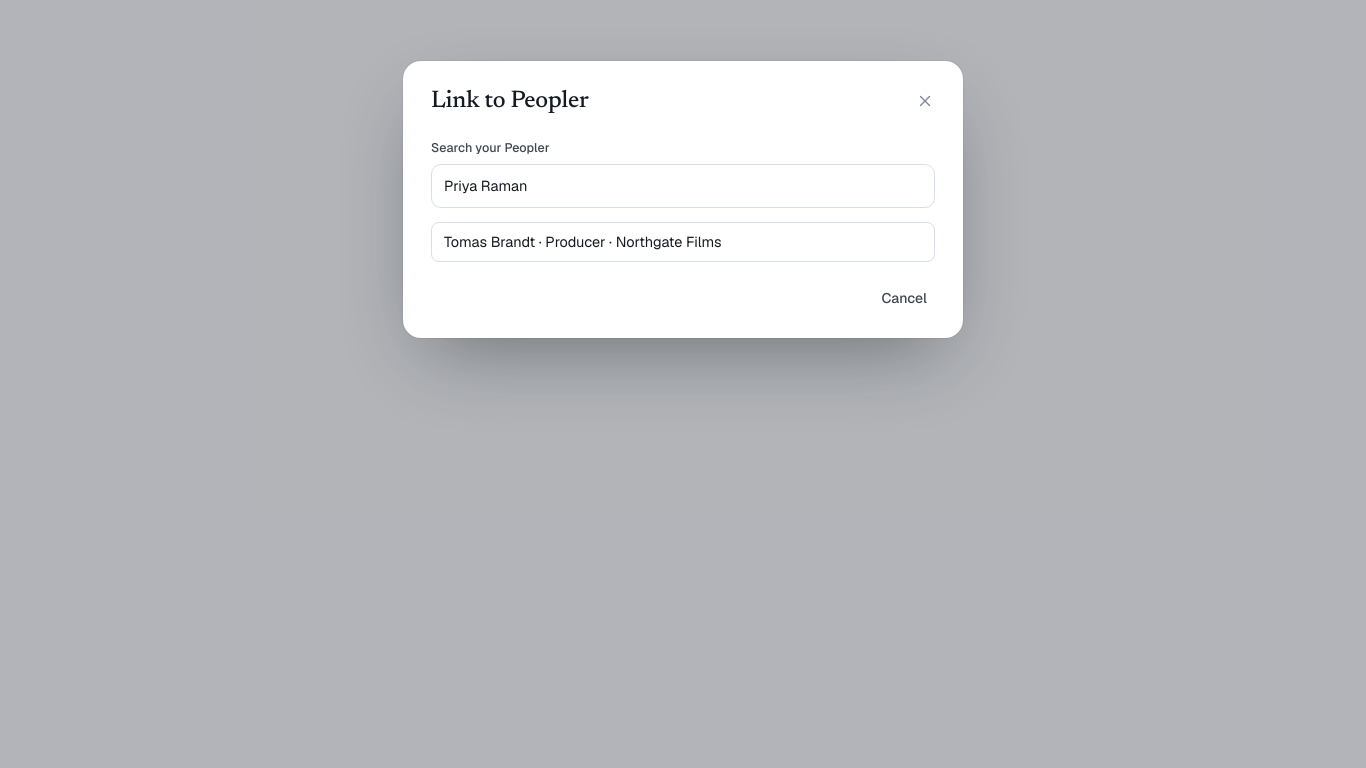
Test case: LinkPeoplerDialog › PEOPLER_PERSON_NOT_FOUND shows its sentence, stays open
Click the button "Tomas Brandt · Producer · Northgate Films": (683, 242) [431,222,935,262]
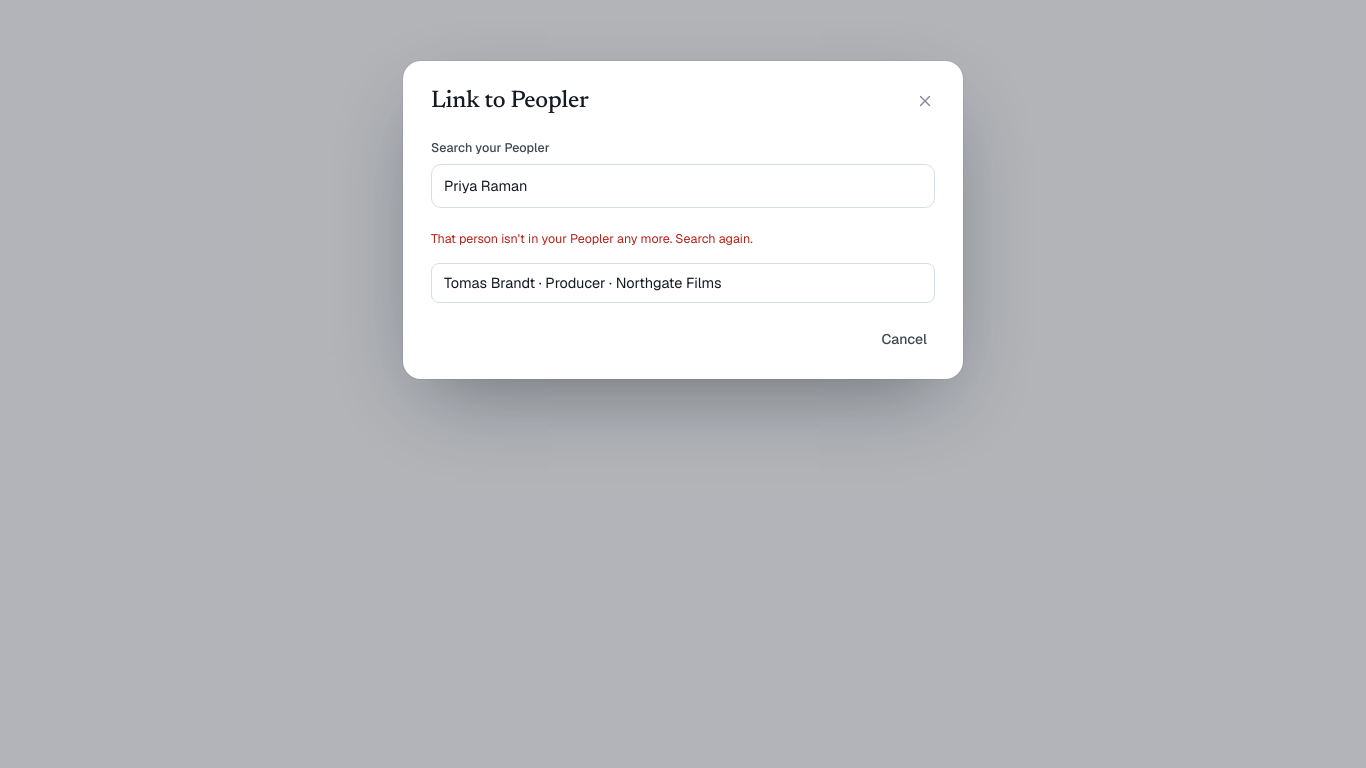
Check: the field labelled "Search your Peopler" is shown, box [431,164,935,208]
Check: the message reads "That person isn't in your Peopler any more. Search again.", box [431,230,753,247]
